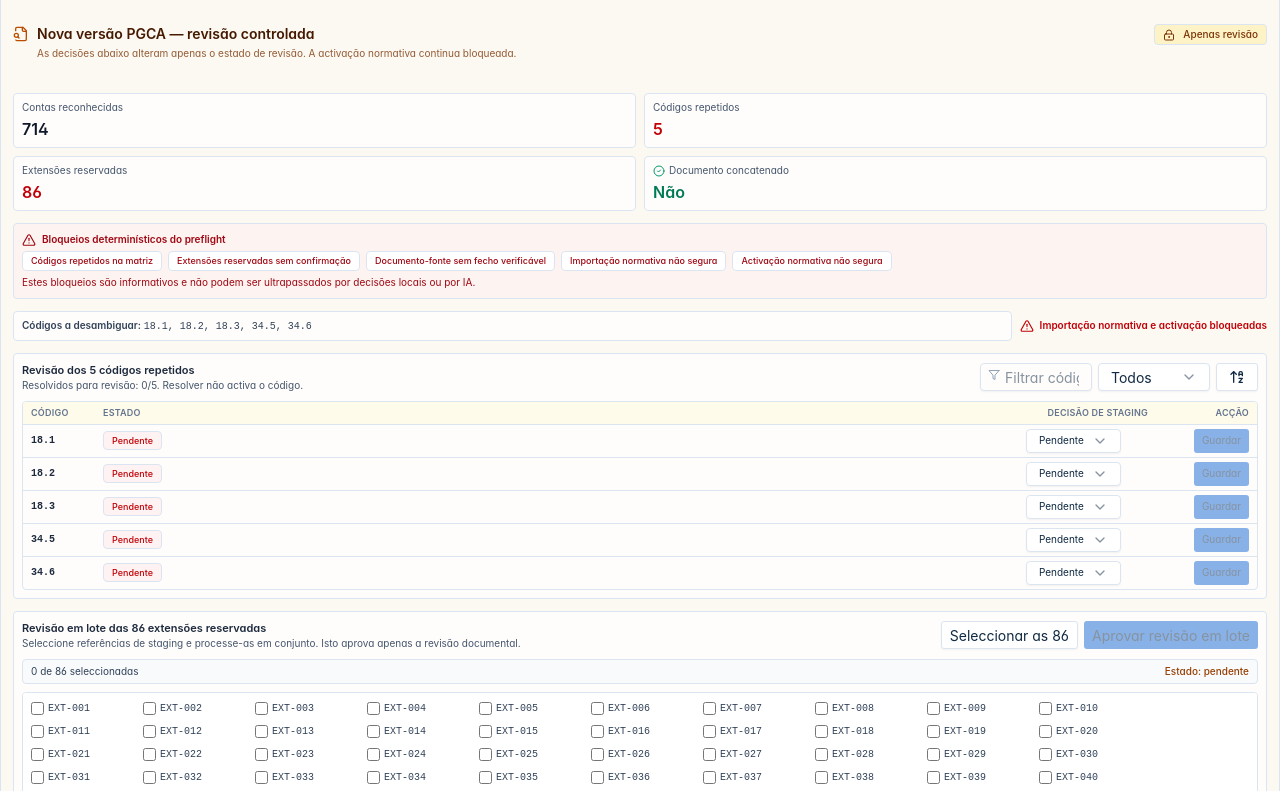
Scenario: PgcaV2StagingPanel › permite aprovar apenas a revisão documental das extensões reservadas
The image size is (1280, 791).
Click the checkbox named "Seleccionar extensão EXT-001": (38, 708) [31,702,44,715]
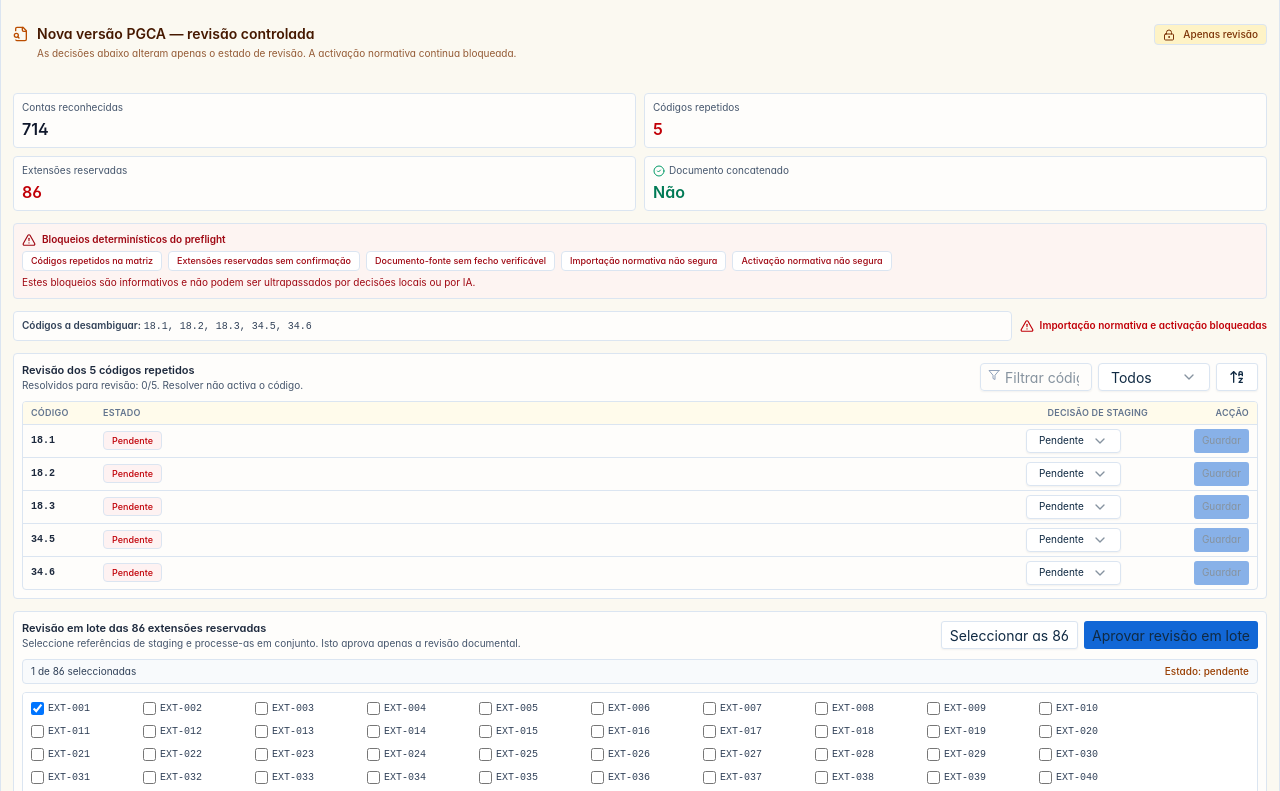
Click the button "Aprovar revisão em lote": (1171, 635) [1084,621,1258,649]
(page scrolled)
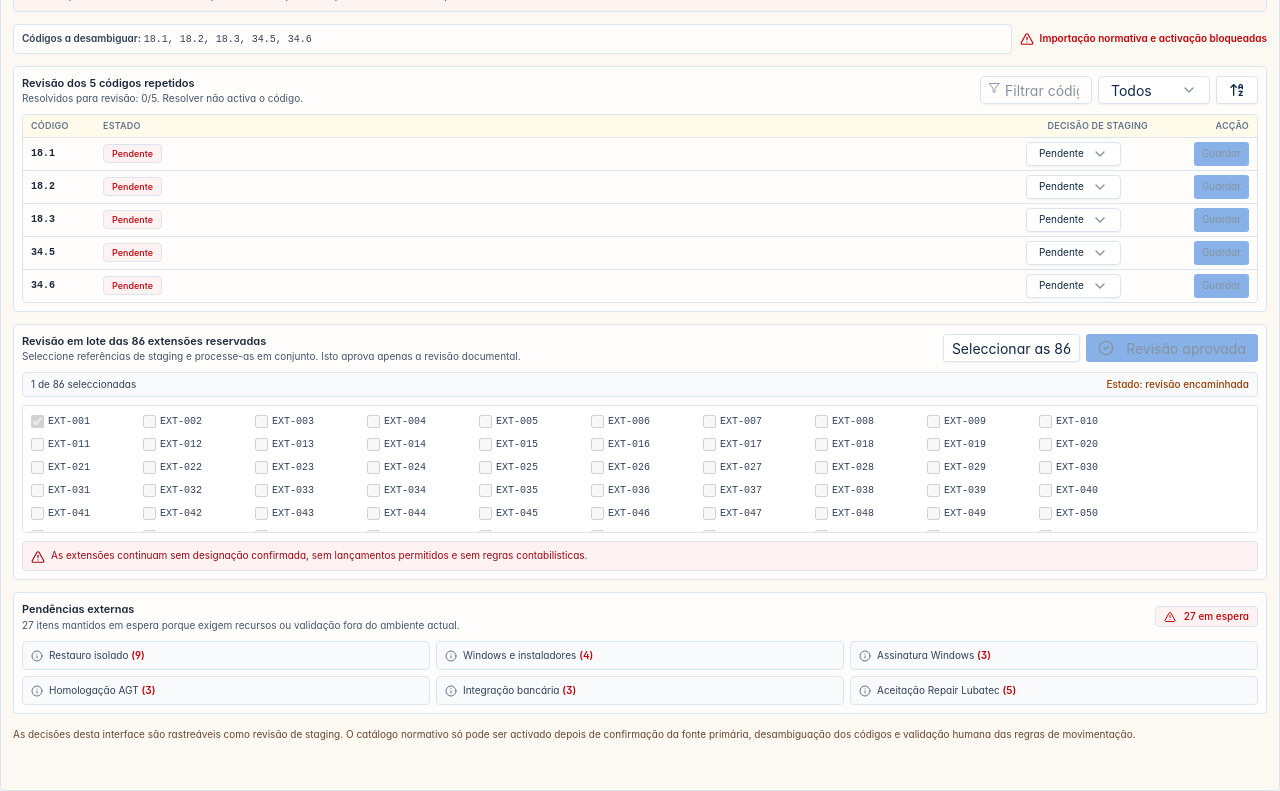
Check: the text "As extensões continuam sem designação confirmada" is shown, box [51,549,588,561]
Check: the button "Revisão aprovada" is shown, box [1086,334,1258,362]
